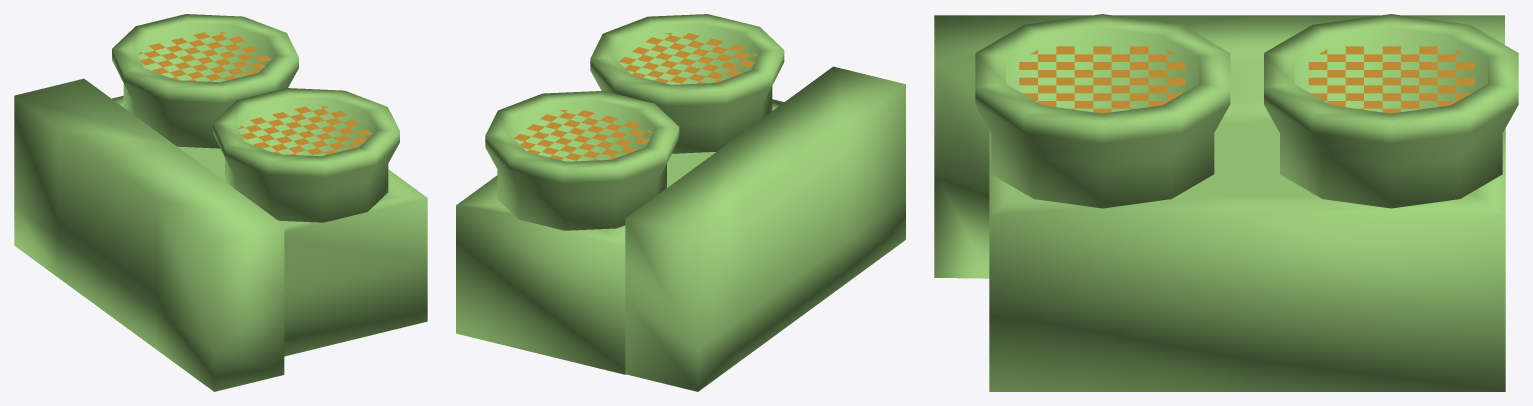
The model's file is Scyscraper_cooler.fbx.
3 views of the same model, side by side, from view 1: azimuth 30°, elevation 25°; view 2: azimuth 150°, elevation 25°; view 3: azimuth 270°, elevation 25° (orthographic). The views are drawn at different scales.
Visible parts, largest first — view 1: Grid; view 2: Grid; view 3: Grid.
Part boxes in pixels (x1,y1,x2,y2): Grid: (14,14,427,391); Grid: (456,14,905,391); Grid: (934,14,1518,391).
Size of the model in its own units: 6.77 by 5.15 by 10.31.
